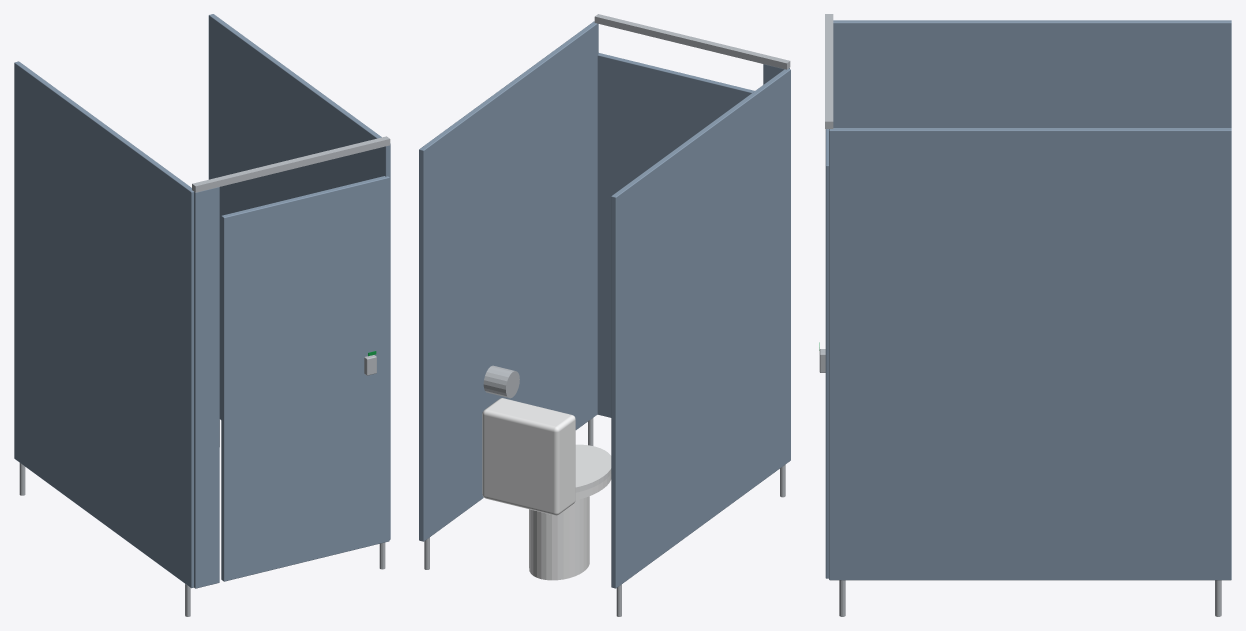
The picture shows the model from 3 angles, left to right: view 1: azimuth 30°, elevation 25°; view 2: azimuth 150°, elevation 25°; view 3: azimuth 270°, elevation 25°; orthographic projection. The views are drawn at different scales.
Parts seen in each view (by area): view 1: wc; view 2: wc; view 3: wc.
Boxes of the visible parts, <box> form: wc: <box>14,14,390,616</box>; wc: <box>419,14,790,616</box>; wc: <box>819,14,1231,616</box>.
Size of the model in its own units: 0.975 by 2.03 by 1.54.
